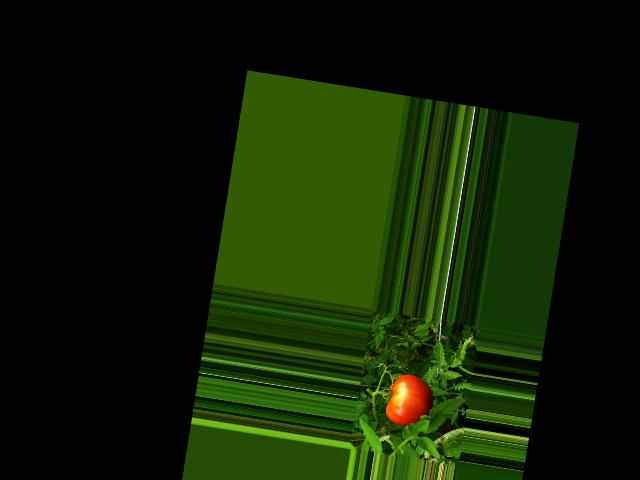tomato: (383, 371, 436, 429)
